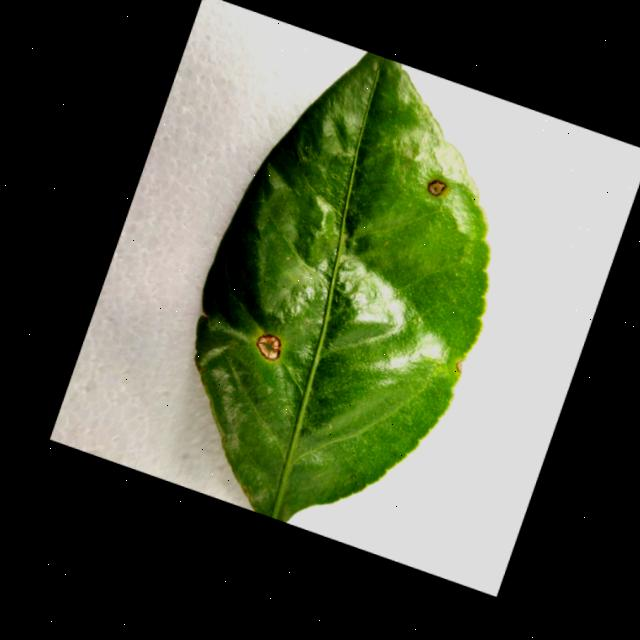antracnose: (196, 52, 489, 520), (256, 334, 280, 360), (427, 179, 446, 195)
